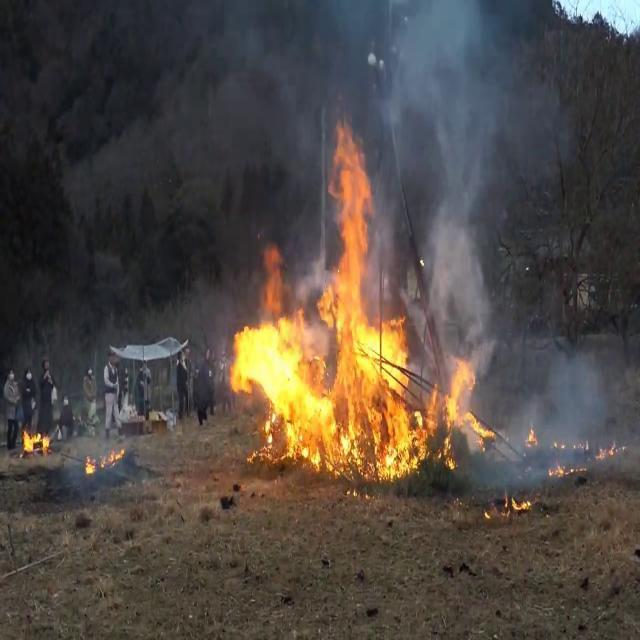Fire: (223, 125, 413, 480), (438, 352, 496, 463), (20, 422, 53, 454), (498, 488, 534, 517)
Smoke: (366, 0, 514, 351), (512, 342, 636, 469)
